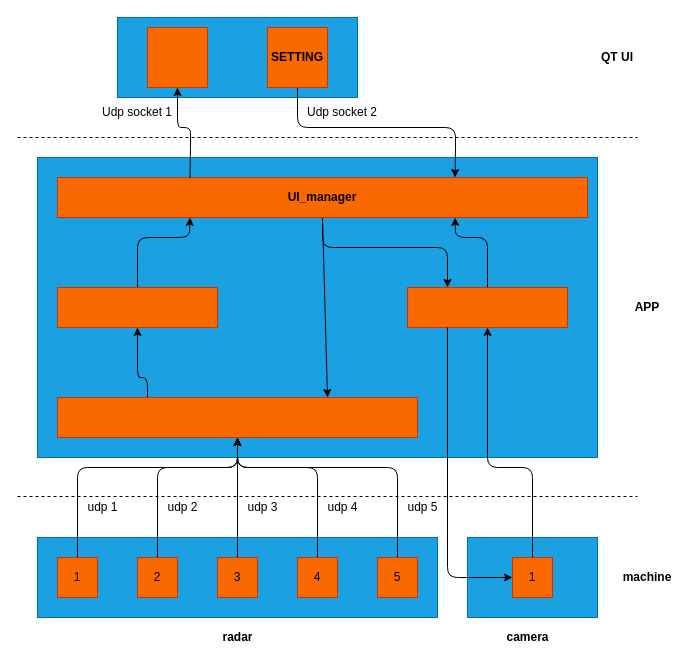
The diagram is 695 pixels wide and 665 high, and some of its shapes have lost their labels. Here are the shapes that lost their labels. From the top down, the box of each, then its label:
(146, 26, 208, 88): SHOW
(56, 286, 218, 328): Radar_manager
(406, 286, 568, 328): Camera_manager
(56, 396, 418, 438): Singleline_manager
